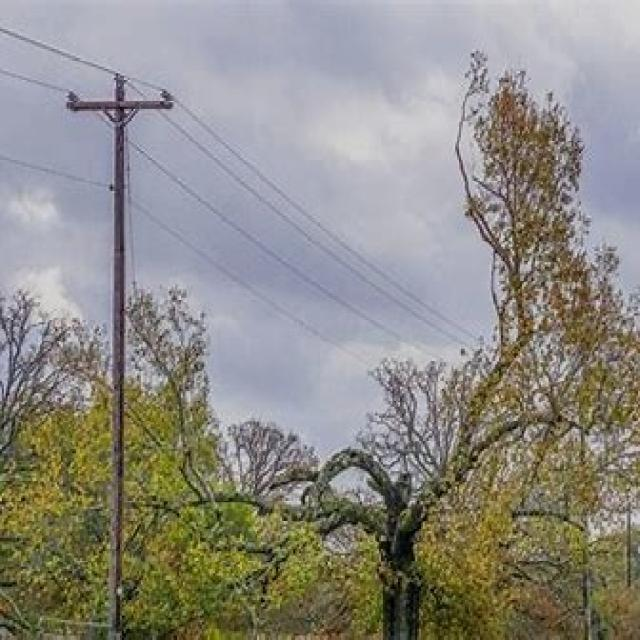utility poles: (61, 38, 178, 640)
